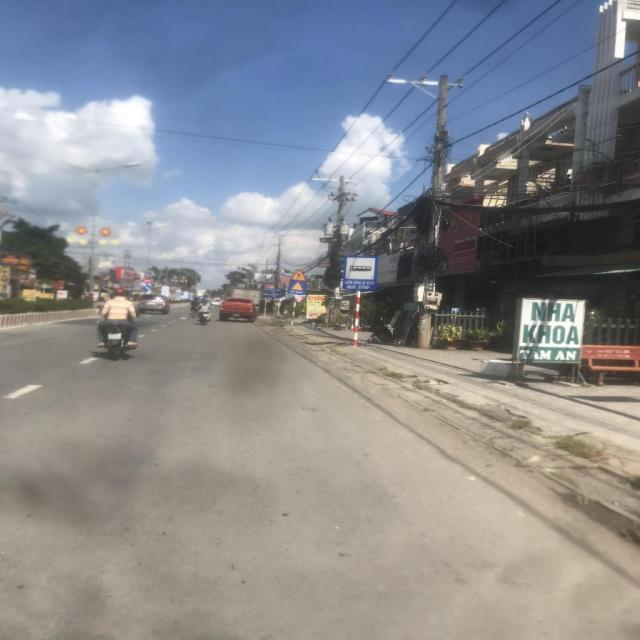442-cho: (287, 280, 307, 296)
